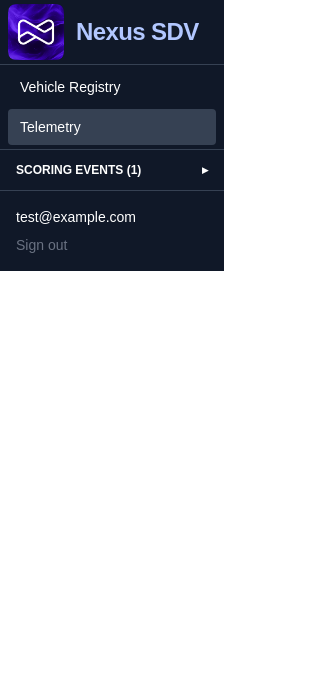
Test: Sidebar scoring events › falls back to raw text for non-JSON messages
Click the button "Scoring Events (1) ▸" at (112, 170), box [16,162,208,178]
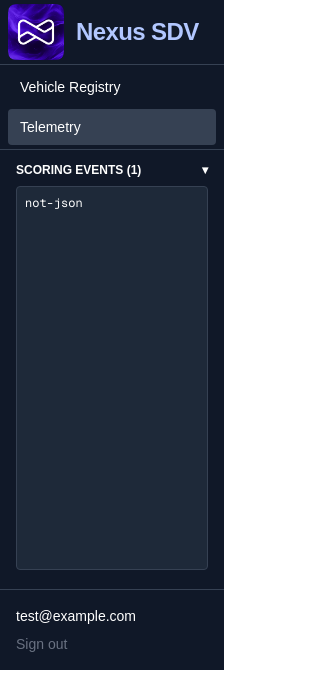
Result: the text box holds "not-json" at [16,186,208,570]
